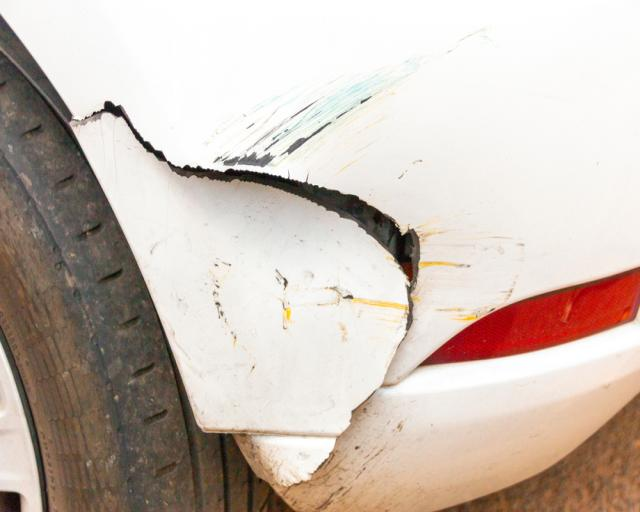crack: (72, 99, 420, 496)
scratch: (209, 29, 488, 166), (213, 257, 407, 354), (415, 214, 539, 321)
